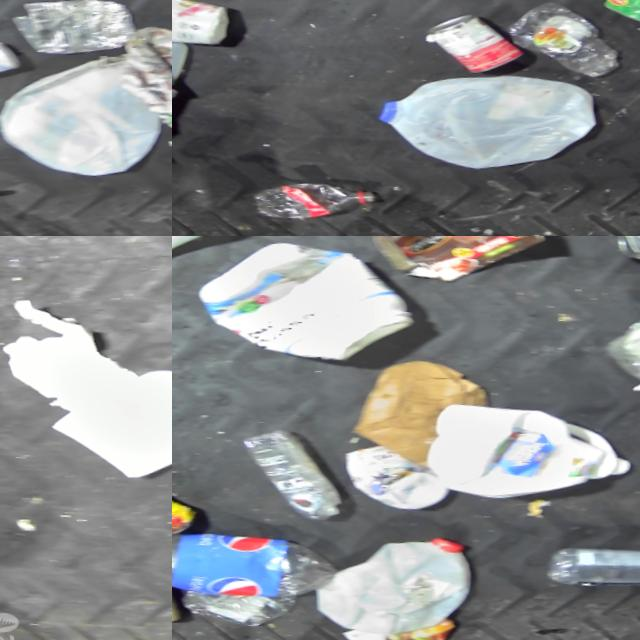can: (426, 0, 534, 74), (6, 0, 147, 55), (172, 470, 212, 541), (580, 634, 640, 640)
milk_jug: (376, 46, 613, 181), (425, 372, 640, 507), (0, 34, 172, 183), (314, 515, 490, 640), (172, 236, 275, 284)
plastic_bottle: (172, 508, 352, 613), (240, 413, 361, 526), (500, 0, 633, 79), (258, 164, 390, 226), (545, 514, 640, 588)
